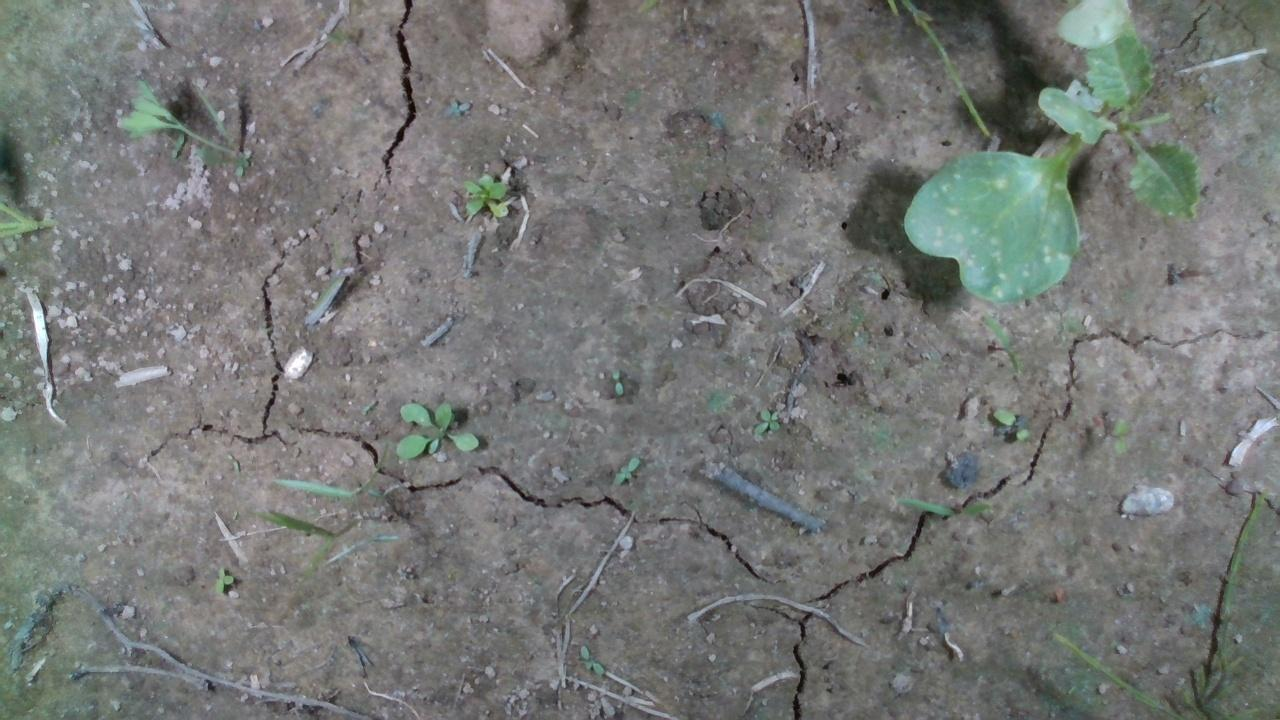weed: (985, 404, 1035, 443), (605, 451, 645, 487)
